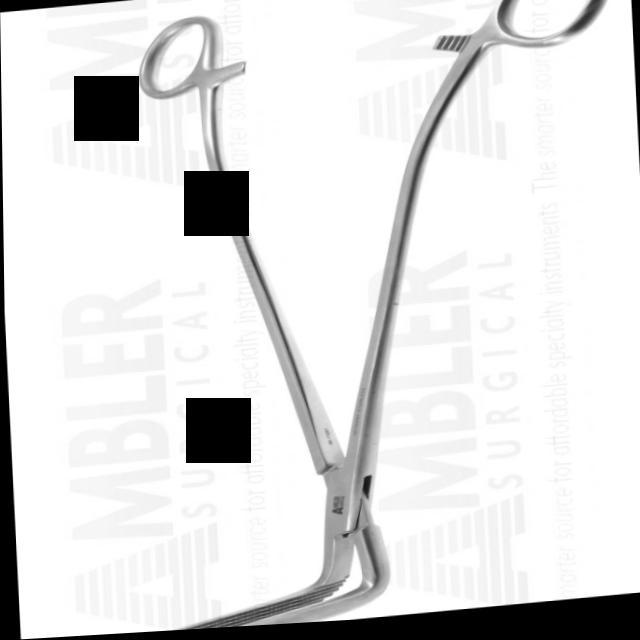Right Angle Colon Clamp: (50, 0, 640, 638)
